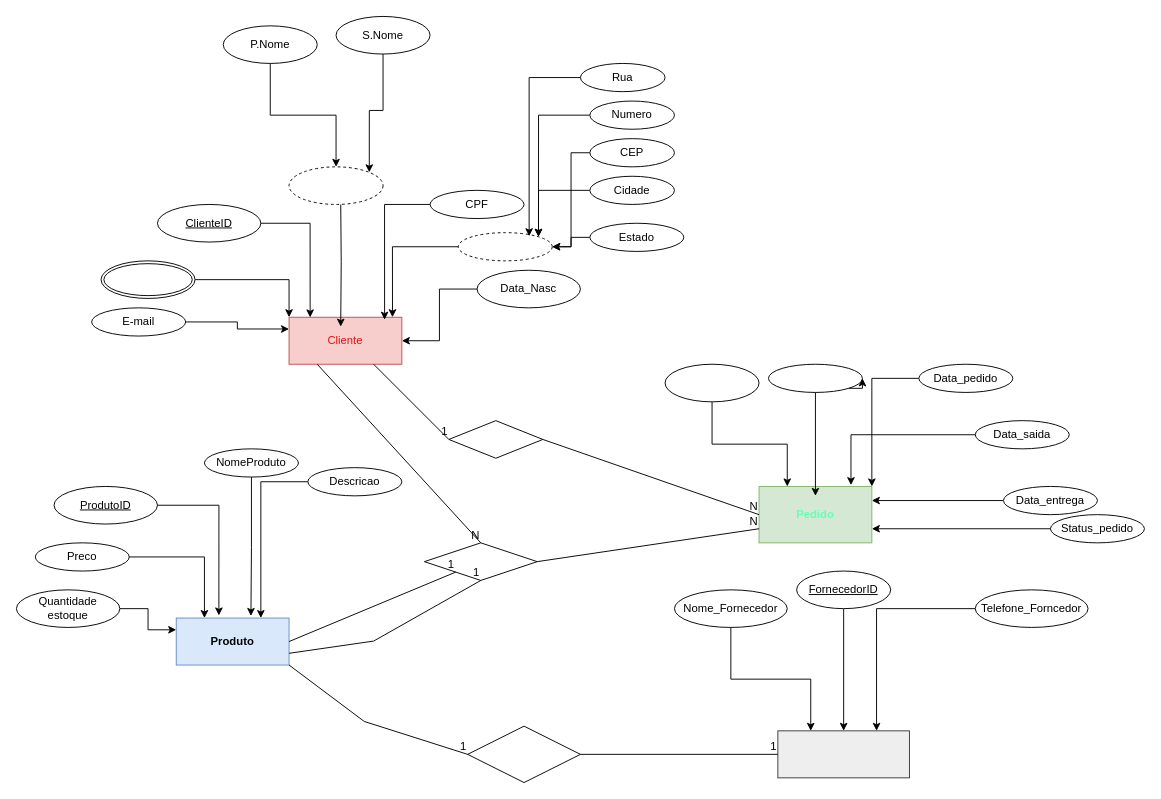
The diagram is 1161 pixels wide and 799 high, and some of its shapes have lost their labels. The shapes that lost their labels are listed below. From the top down, each one's box as (x1, y1, x2, y2) in pixels, then its label:
(288, 166, 383, 204): Nome
(457, 232, 552, 261): Endereço
(100, 260, 195, 298): Telefone
(664, 363, 759, 402): Valor_pedido
(768, 363, 862, 392): PedidoID
(448, 420, 543, 458): Fazer
(423, 542, 537, 580): Pode
(467, 725, 580, 783): Pertence
(777, 730, 909, 778): Fornecedor
